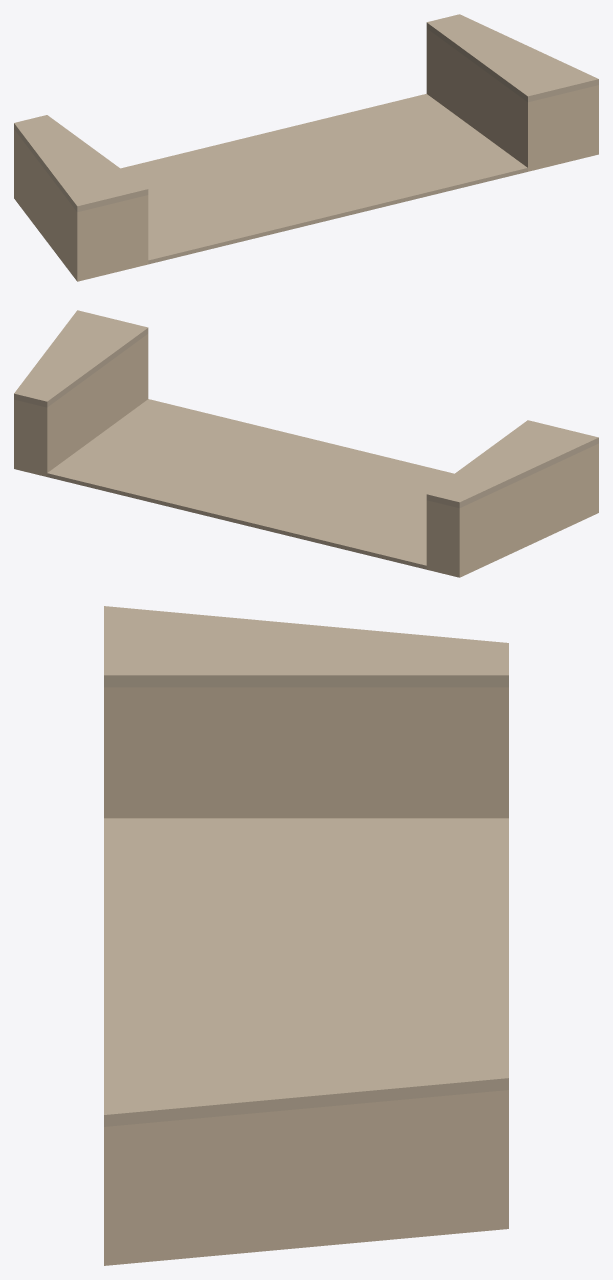
The model's file is city_bridge_abutment.glb.
The picture shows the model from 3 angles, top to bottom: view 1: azimuth 30°, elevation 25°; view 2: azimuth 150°, elevation 25°; view 3: azimuth 270°, elevation 25°; orthographic projection. The views are drawn at different scales.
Visible parts, largest first — view 1: CityBridgeAbutment_Apron, CityBridgeAbutment_Wing1, CityBridgeAbutment_Wing-1, CityBridgeAbutment_WingCap1, CityBridgeAbutment_WingCap-1; view 2: CityBridgeAbutment_Apron, CityBridgeAbutment_Wing-1, CityBridgeAbutment_Wing1, CityBridgeAbutment_WingCap-1, CityBridgeAbutment_WingCap1; view 3: CityBridgeAbutment_Apron, CityBridgeAbutment_Wing1, CityBridgeAbutment_Wing-1, CityBridgeAbutment_WingCap1, CityBridgeAbutment_WingCap-1.
Part boxes in pixels (box(x1,y1,x2,y2)): CityBridgeAbutment_Apron: box(120, 94, 527, 264); CityBridgeAbutment_Wing1: box(426, 28, 598, 171); CityBridgeAbutment_Wing-1: box(14, 129, 148, 281); CityBridgeAbutment_WingCap1: box(426, 14, 598, 102); CityBridgeAbutment_WingCap-1: box(14, 115, 148, 212); CityBridgeAbutment_Apron: box(47, 399, 453, 569); CityBridgeAbutment_Wing-1: box(426, 443, 598, 577); CityBridgeAbutment_Wing1: box(14, 334, 148, 476); CityBridgeAbutment_WingCap-1: box(426, 420, 598, 508); CityBridgeAbutment_WingCap1: box(14, 310, 148, 407); CityBridgeAbutment_Apron: box(104, 818, 508, 1045); CityBridgeAbutment_Wing1: box(104, 1090, 508, 1265); CityBridgeAbutment_Wing-1: box(104, 687, 508, 818); CityBridgeAbutment_WingCap1: box(104, 1045, 508, 1126); CityBridgeAbutment_WingCap-1: box(104, 606, 508, 687).
Bounding box in the file's own units: 5.5 × 0.76 × 1.85.
